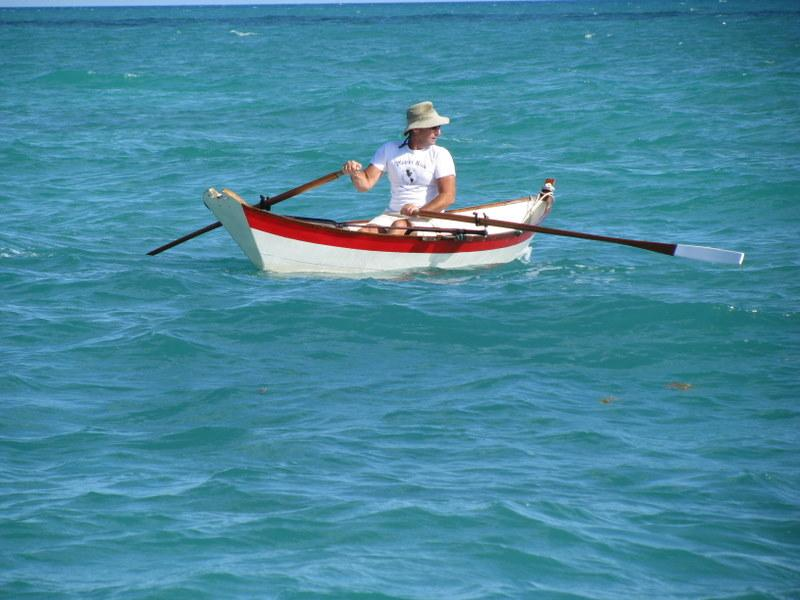person: (346, 101, 459, 236)
